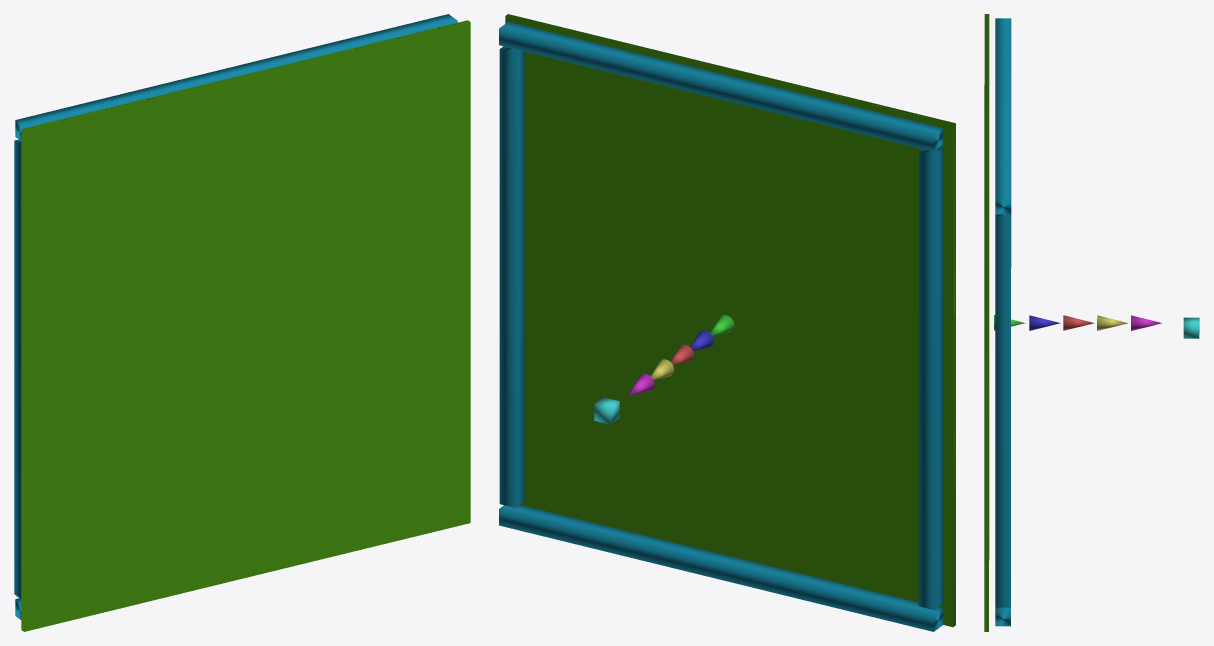
The model's file is sausage_test.dae.
3 views of the same model, side by side, from view 1: azimuth 30°, elevation 25°; view 2: azimuth 150°, elevation 25°; view 3: azimuth 270°, elevation 25° (orthographic). The views are drawn at different scales.
Visible parts, largest first — view 1: GroundPlane, Cube_004, Cube_002; view 2: GroundPlane, Cube_002, Cube_003, Cube_004, Cube_005; view 3: Cube_003, GroundPlane, Cube_004, Cube, Cube_005.
Part boxes in pixels (left/top/right/bottom): GroundPlane: left=21, top=20, right=470, bottom=631; Cube_004: left=15, top=14, right=457, bottom=140; Cube_002: left=14, top=139, right=21, bottom=598; GroundPlane: left=505, top=14, right=955, bottom=627; Cube_002: left=918, top=147, right=943, bottom=610; Cube_003: left=499, top=46, right=524, bottom=507; Cube_004: left=499, top=22, right=942, bottom=151; Cube_005: left=499, top=505, right=942, bottom=631; Cube_003: left=995, top=214, right=1011, bottom=607; GroundPlane: left=984, top=14, right=989, bottom=631; Cube_004: left=995, top=18, right=1011, bottom=214; Cube: left=1183, top=317, right=1199, bottom=338; Cube_005: left=995, top=607, right=1010, bottom=626.
Bounding box in the file's own units: 56 × 27.18 × 60.
